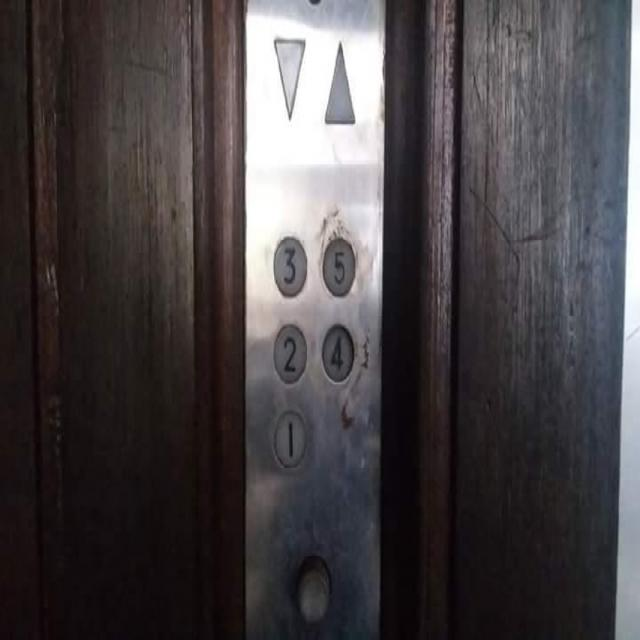1: (273, 408, 305, 465)
2: (273, 326, 307, 382)
3: (272, 235, 307, 297)
4: (320, 323, 354, 381)
5: (321, 233, 356, 299)
empty: (292, 550, 334, 626)
